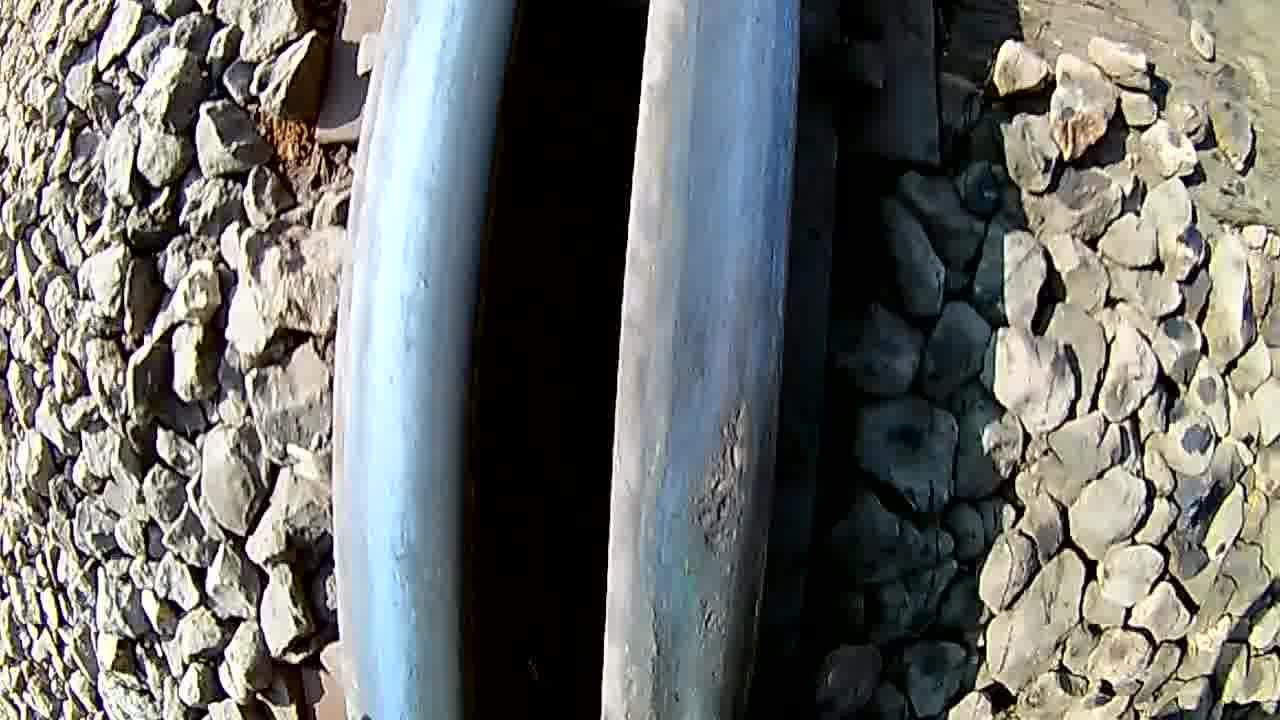crack: (612, 256, 792, 720)
